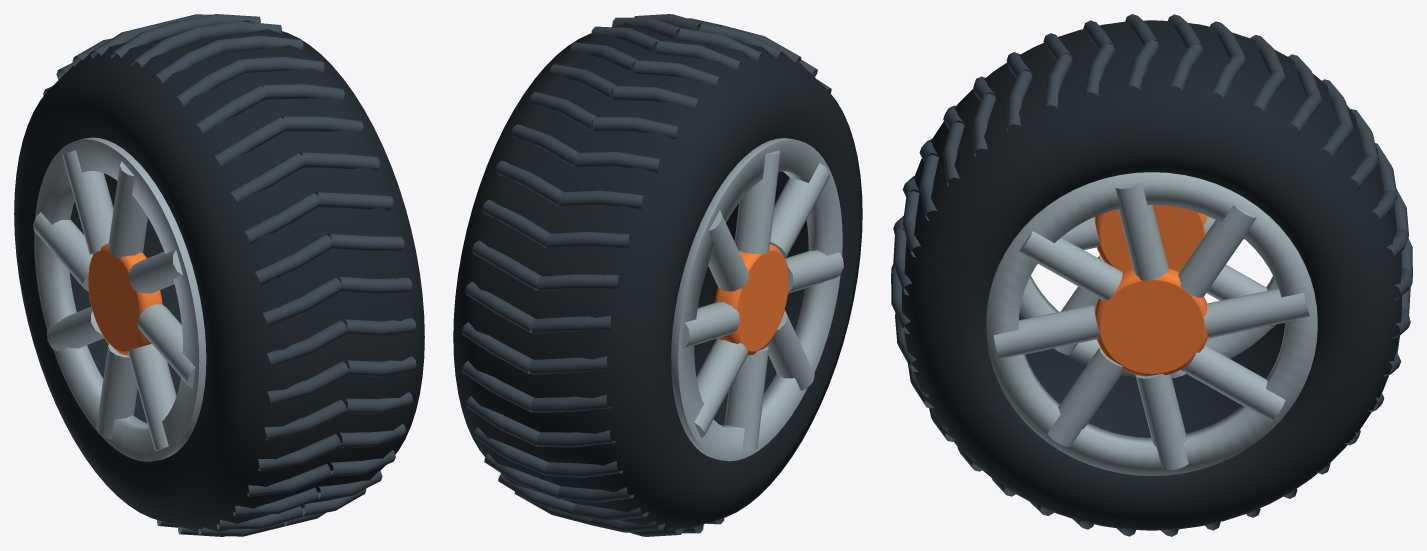
Rendered from wheel.glb.
3 views of the same model, side by side, from view 1: azimuth 30°, elevation 25°; view 2: azimuth 150°, elevation 25°; view 3: azimuth 270°, elevation 25° (orthographic).
Visible parts, largest first — view 1: Rounded pneumatic tire; view 2: Rounded pneumatic tire; view 3: Rounded pneumatic tire.
Part boxes in pixels (bbox=[...]): Rounded pneumatic tire: bbox=[14, 14, 424, 536]; Rounded pneumatic tire: bbox=[453, 14, 862, 536]; Rounded pneumatic tire: bbox=[891, 14, 1412, 536].
Size of the model in its own units: 0.34 by 0.7 by 0.7.
